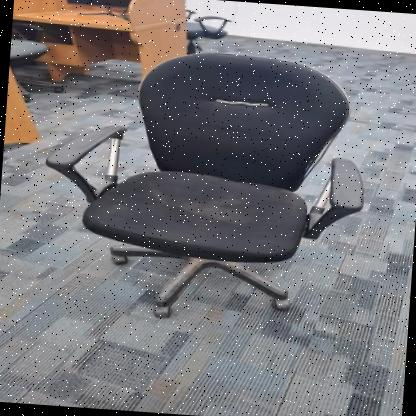chair: (20, 32, 378, 334)
